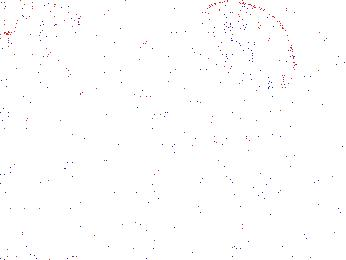moon jellyfish: (203, 1, 295, 93), (119, 40, 180, 138), (1, 40, 91, 104), (13, 1, 80, 86), (161, 13, 238, 76)
